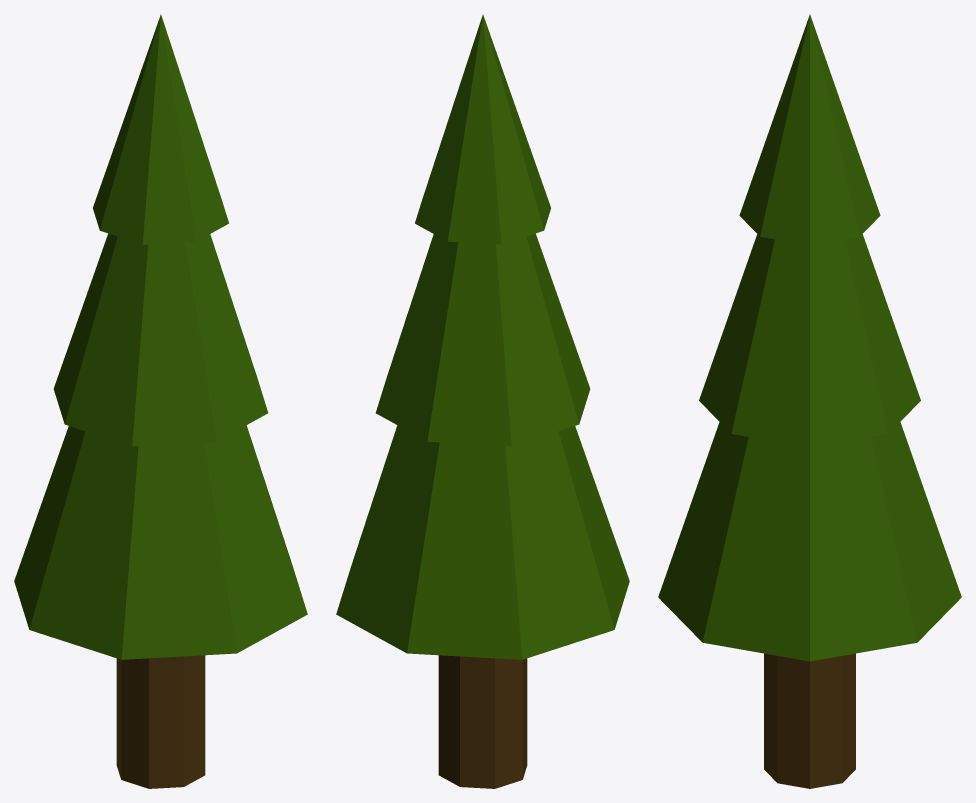
The model's file is lowpolytree_2.dae.
3 views of the same model, side by side, from view 1: azimuth 30°, elevation 25°; view 2: azimuth 150°, elevation 25°; view 3: azimuth 270°, elevation 25° (orthographic).
Parts seen in each view (by area): view 1: Cylinder; view 2: Cylinder; view 3: Cylinder.
Part boxes in pixels (x1,y1,x2,y2): Cylinder: [14, 14, 307, 788]; Cylinder: [336, 14, 629, 788]; Cylinder: [658, 14, 961, 788].
Size of the model in its own units: 6.62 by 6.62 by 18.17.
